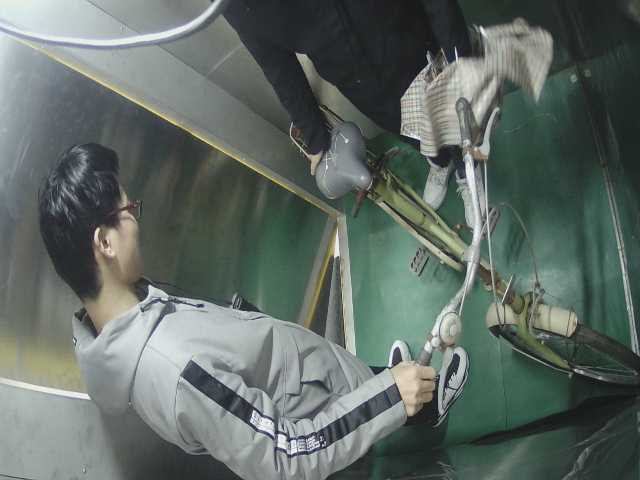bicycle: (288, 98, 630, 401)
person: (38, 149, 466, 471), (217, 1, 520, 240)
